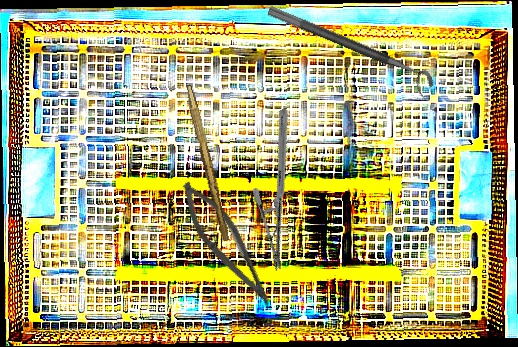Fixation Ring: (261, 4, 437, 100)
Micro Scissor: (166, 173, 290, 315)
Needle Holder: (210, 107, 351, 272)
Scalpel Handle: (180, 84, 234, 242)
